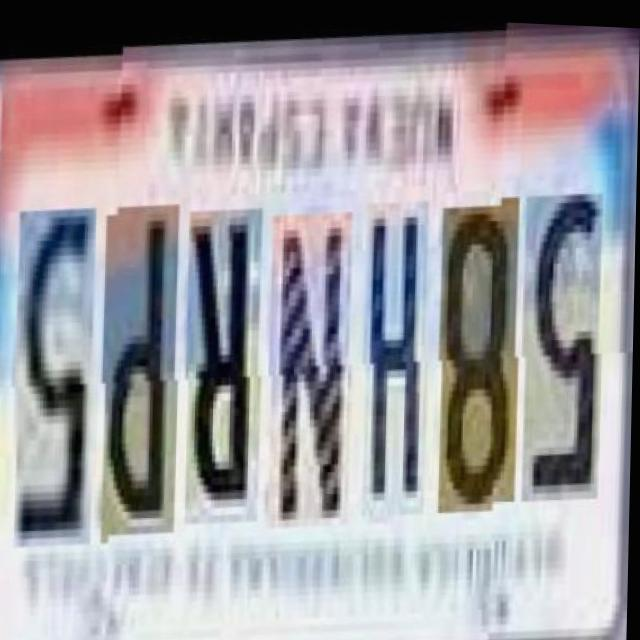5: (13, 186, 97, 530), (520, 192, 604, 505)
8: (436, 195, 520, 508)
h: (361, 190, 430, 511)
n: (266, 200, 353, 522)
p: (99, 192, 180, 527)
r: (183, 196, 264, 517)
